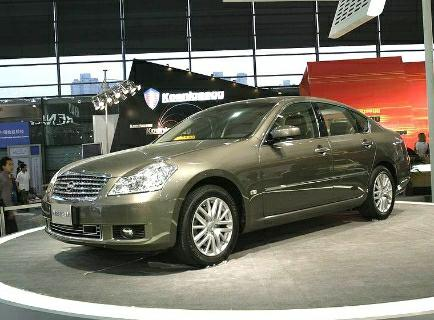car: (29, 100, 419, 269)
